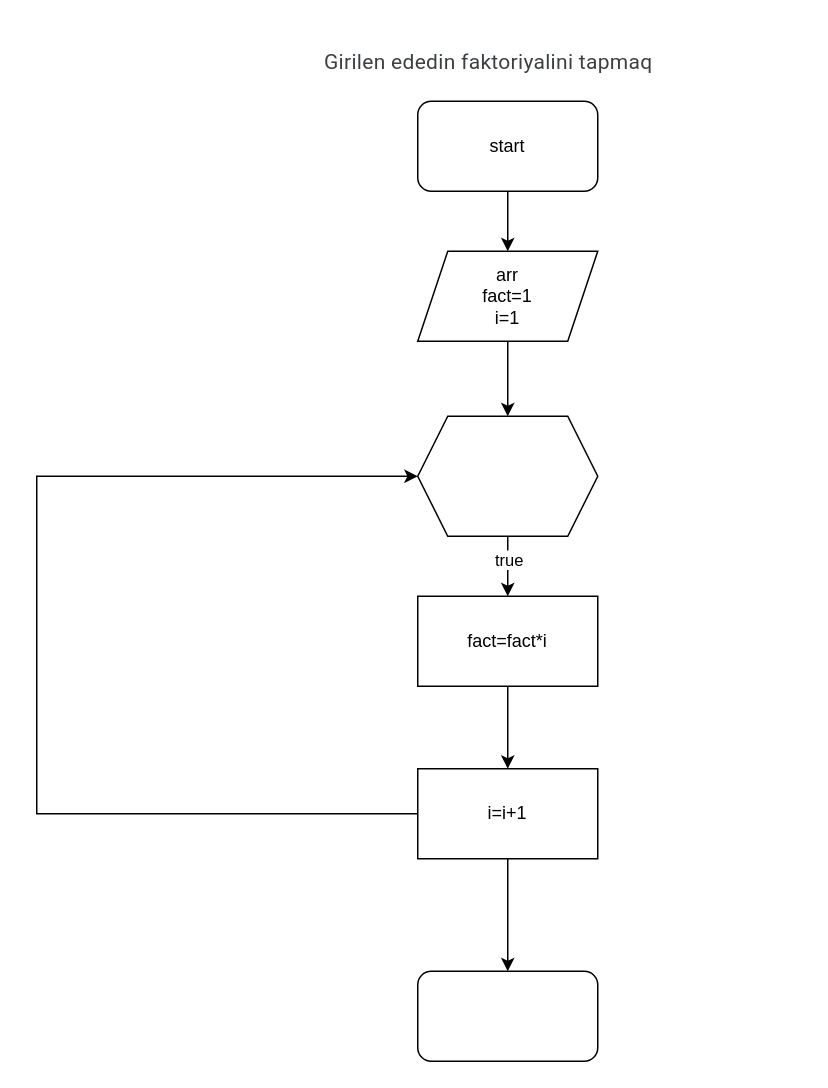
This 828x1088 diagram has some shape labels left out. The shapes that lost their labels are listed below. From the top down, each one's box as (x1, y1, x2, y2) in pixels, then its label:
(416, 415, 598, 536): i<=num
(416, 970, 598, 1061): end
